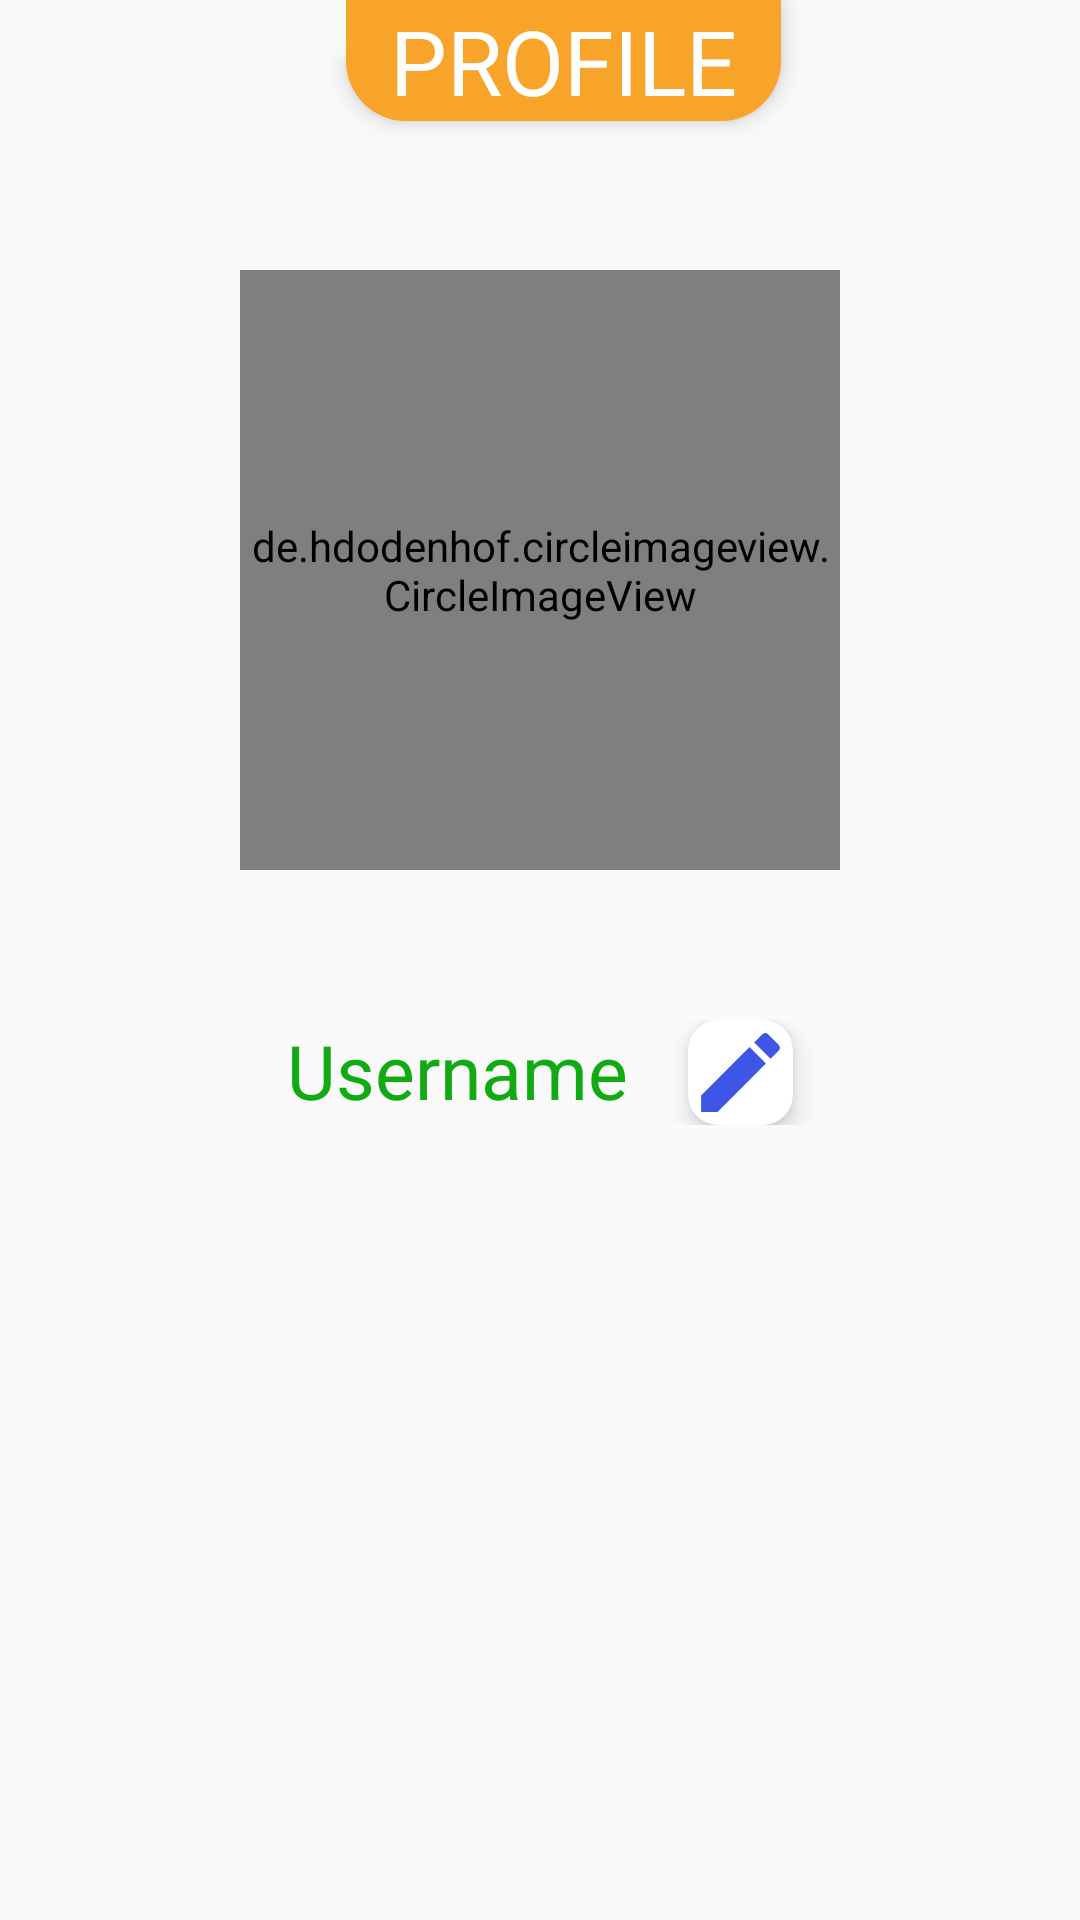

Screen size 1080px×1920px. Icon name, then its box in pixels as [x1, y1, x2, y2]:
edit: [690, 1033, 793, 1125]
